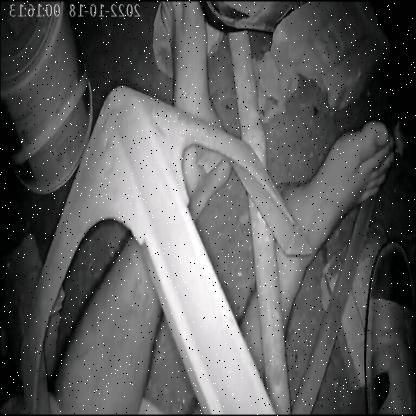leg: (249, 114, 401, 330), (132, 0, 246, 221)
